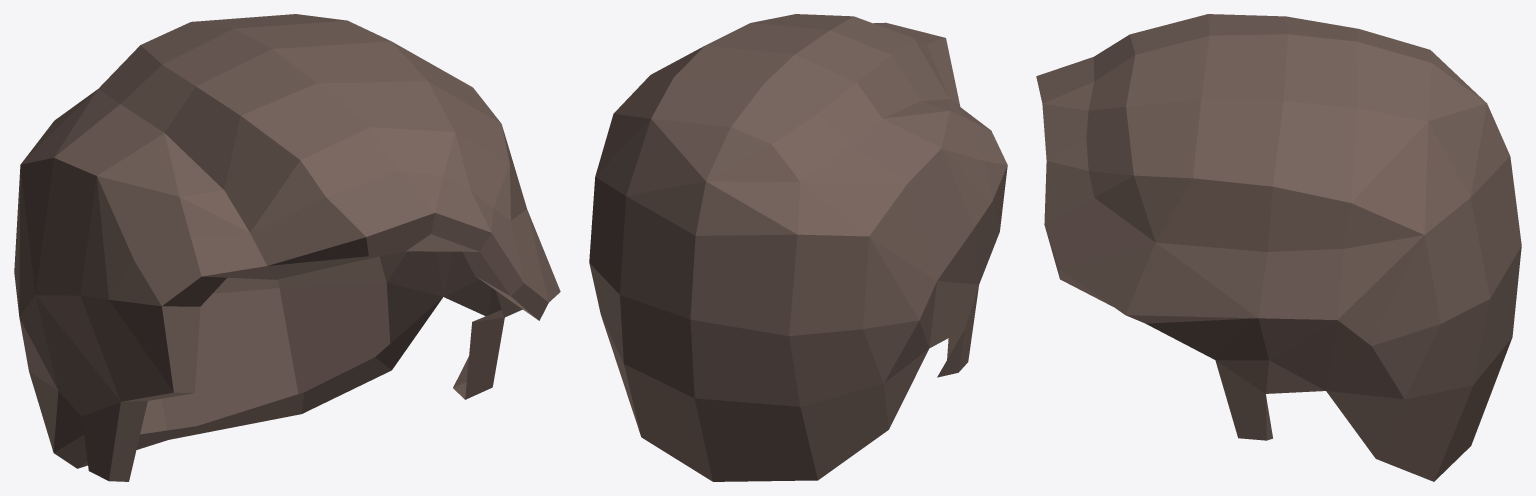
The model's file is side_parting_hair.fbx.
3 renders of one model, left to right at view 1: azimuth 30°, elevation 25°; view 2: azimuth 150°, elevation 25°; view 3: azimuth 270°, elevation 25°, orthographic. The views are drawn at different scales.
Parts seen in each view (by area): view 1: Mesh.002; view 2: Mesh.002; view 3: Mesh.002.
Boxes of the visible parts, left/top/right/bottom form: Mesh.002: left=14, top=14, right=560, bottom=481; Mesh.002: left=589, top=14, right=1007, bottom=481; Mesh.002: left=1036, top=14, right=1521, bottom=481.
Size of the model in its own units: 2183 by 2226 by 2380.
